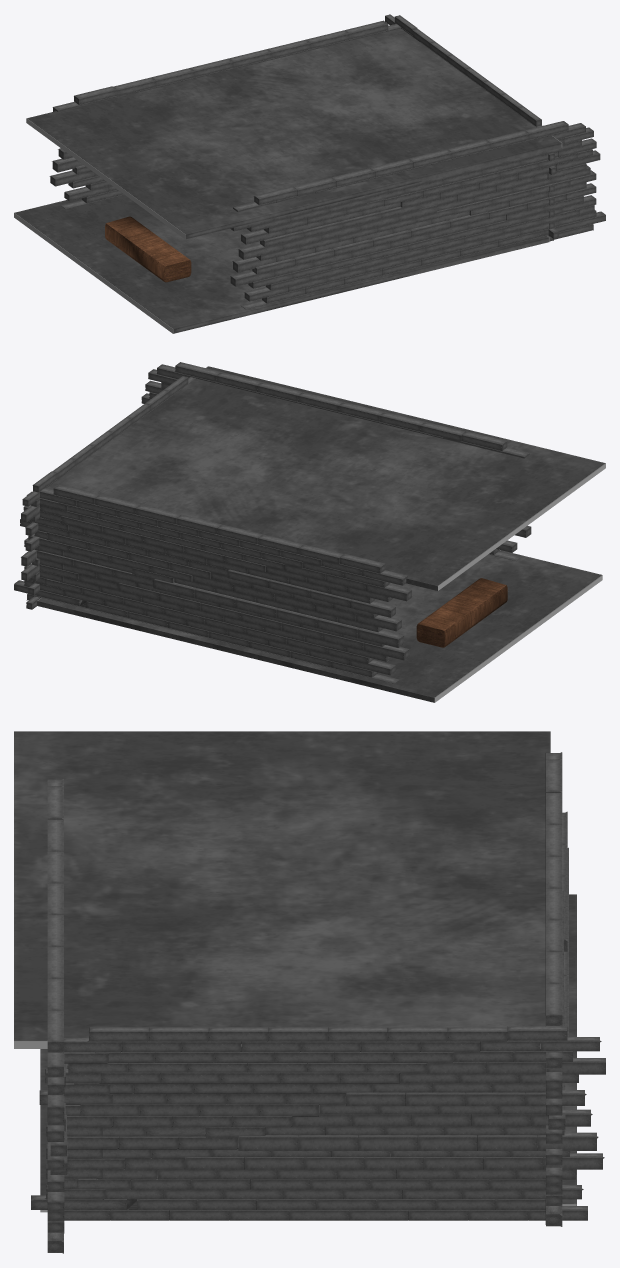
File: Final_2ndRoom.fbx
3 views of the same model, one above another, from view 1: azimuth 30°, elevation 25°; view 2: azimuth 150°, elevation 25°; view 3: azimuth 270°, elevation 25° (orthographic). The views are drawn at different scales.
Visible parts, largest first — view 1: Floor.003, StoneBrick.008, Floor.002, StoneBrick.007, Bjelker.010, StoneBrick.006; view 2: Floor.003, StoneBrick.007, Floor.002, StoneBrick.008, StoneBrick.006, Bjelker.010; view 3: Floor.003, StoneBrick.006, StoneBrick.007, StoneBrick.008, Floor.002.
Part boxes in pixels (x1,y1,x2,y2): Floor.003: (26, 28, 562, 239); StoneBrick.008: (230, 121, 605, 309); Floor.002: (14, 195, 549, 333); StoneBrick.007: (49, 20, 400, 209); Bjelker.010: (105, 216, 191, 282); StoneBrick.006: (385, 14, 558, 241); Floor.003: (46, 366, 605, 590); StoneBrick.007: (14, 484, 411, 683); Floor.002: (37, 550, 602, 702); StoneBrick.008: (141, 362, 531, 560); StoneBrick.006: (21, 376, 195, 609); Bjelker.010: (416, 578, 507, 647); Floor.003: (14, 731, 550, 1048); StoneBrick.006: (31, 1026, 605, 1220); StoneBrick.007: (545, 752, 568, 1226); StoneBrick.008: (47, 779, 68, 1253); Floor.002: (40, 894, 576, 1212).
Size of the model in its own units: 670 by 168 by 468.
